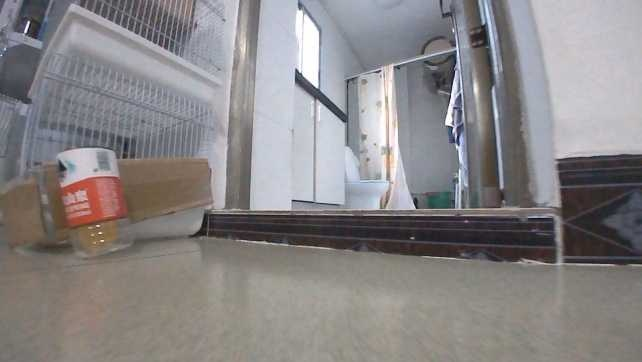bottle: (56, 144, 135, 257)
door_sill: (205, 206, 559, 262)
toilet: (341, 146, 388, 206)
